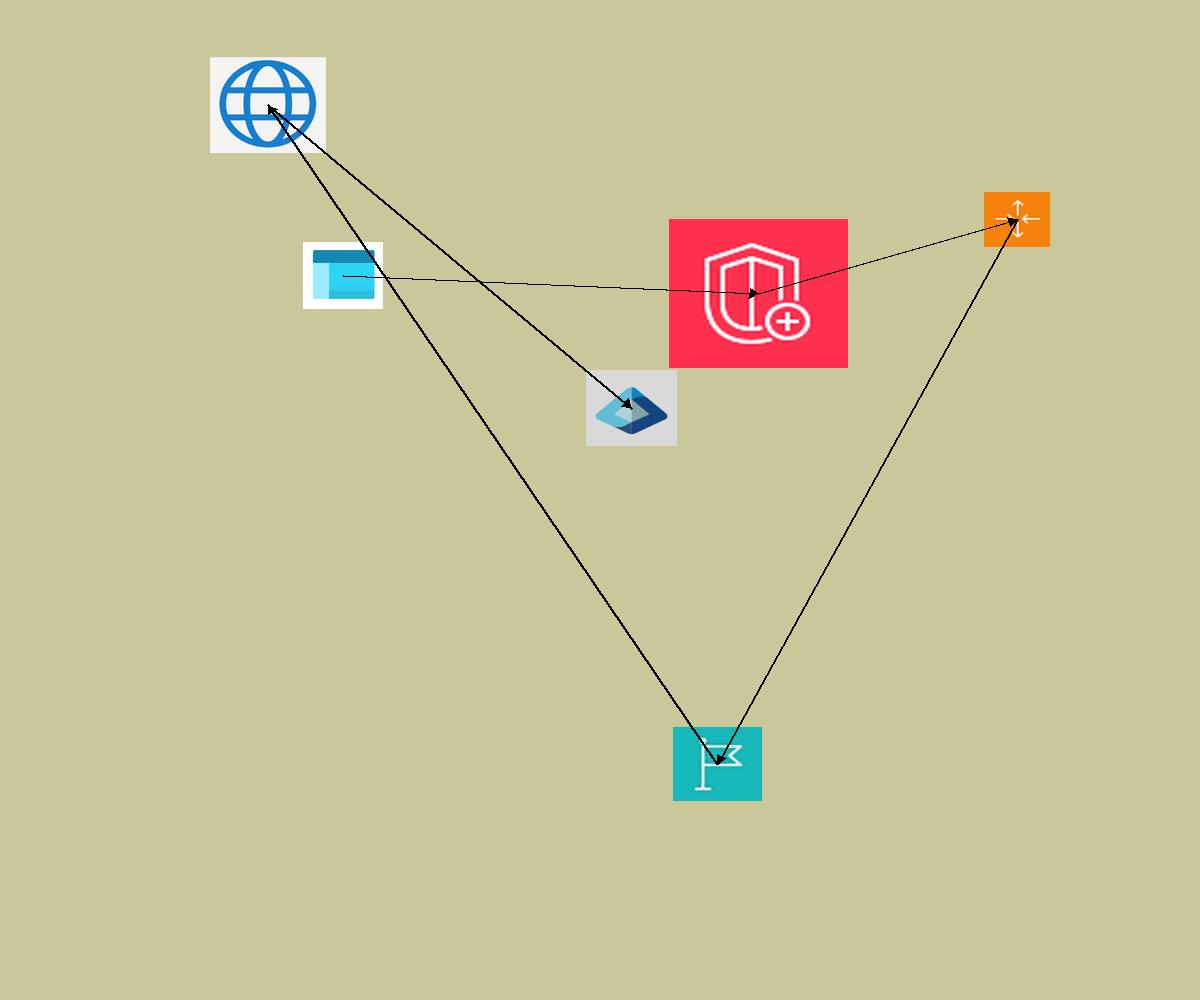AWS-Region: (673, 727, 762, 801)
AWS-Scaling-group: (984, 192, 1050, 247)
AWS-Shield: (669, 219, 848, 368)
Azure_http: (210, 57, 326, 153)
Azure_management-portal: (303, 242, 383, 309)
Azure_microsoft_entra: (586, 370, 677, 446)
